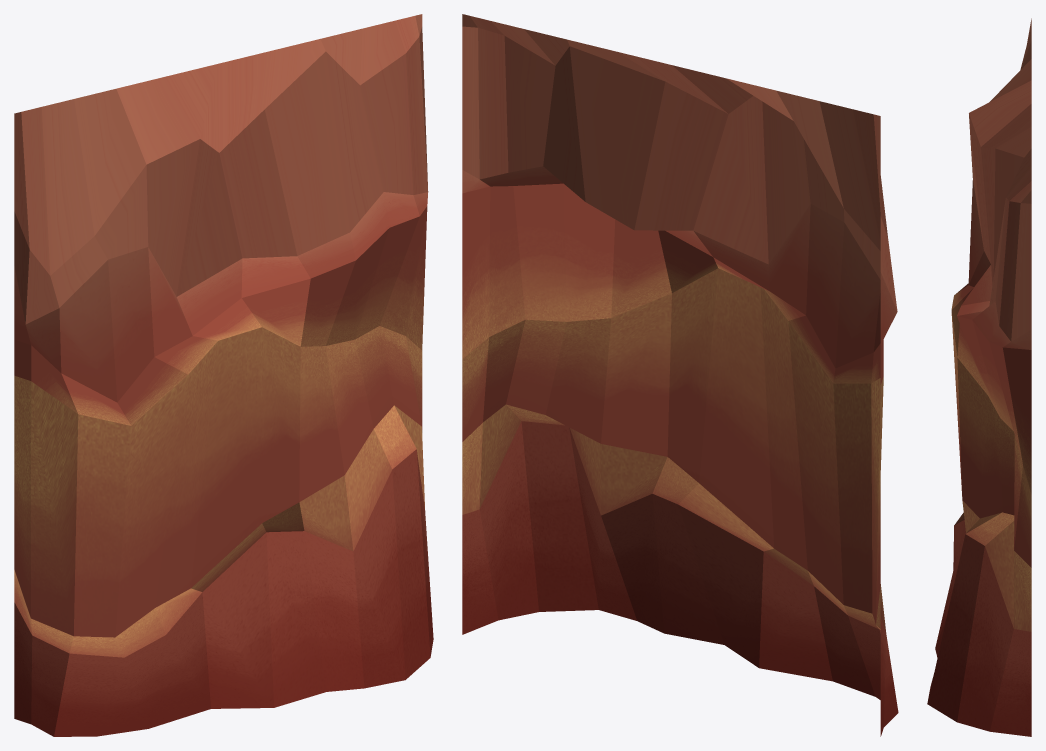
The model's file is WallA.fbx.
The picture shows the model from 3 angles, left to right: view 1: azimuth 30°, elevation 25°; view 2: azimuth 150°, elevation 25°; view 3: azimuth 270°, elevation 25°; orthographic projection. The views are drawn at different scales.
Parts seen in each view (by area): view 1: wall 1; view 2: wall 1; view 3: wall 1.
Boxes of the visible parts, <box> form: wall 1: <box>14,14,433,736</box>; wall 1: <box>462,14,898,736</box>; wall 1: <box>927,18,1031,736</box>.
Size of the model in its own units: 1135 by 1600 by 278.
